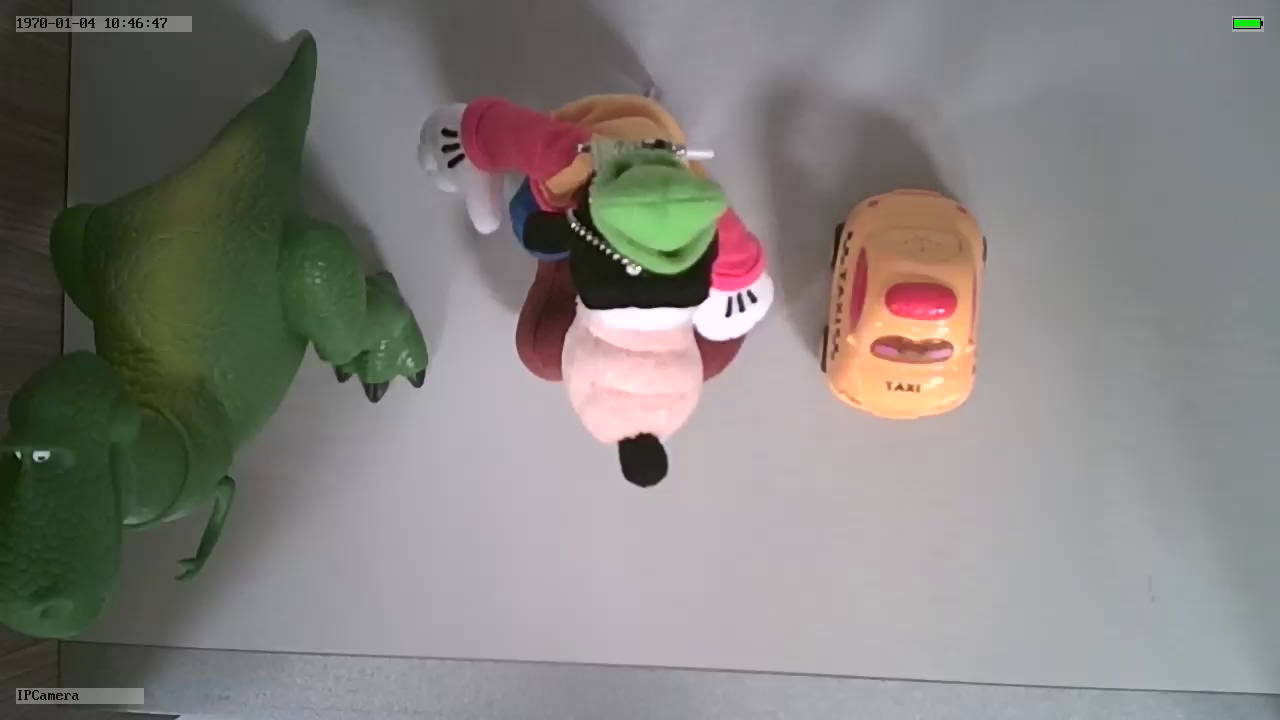goofy: (415, 89, 779, 490)
